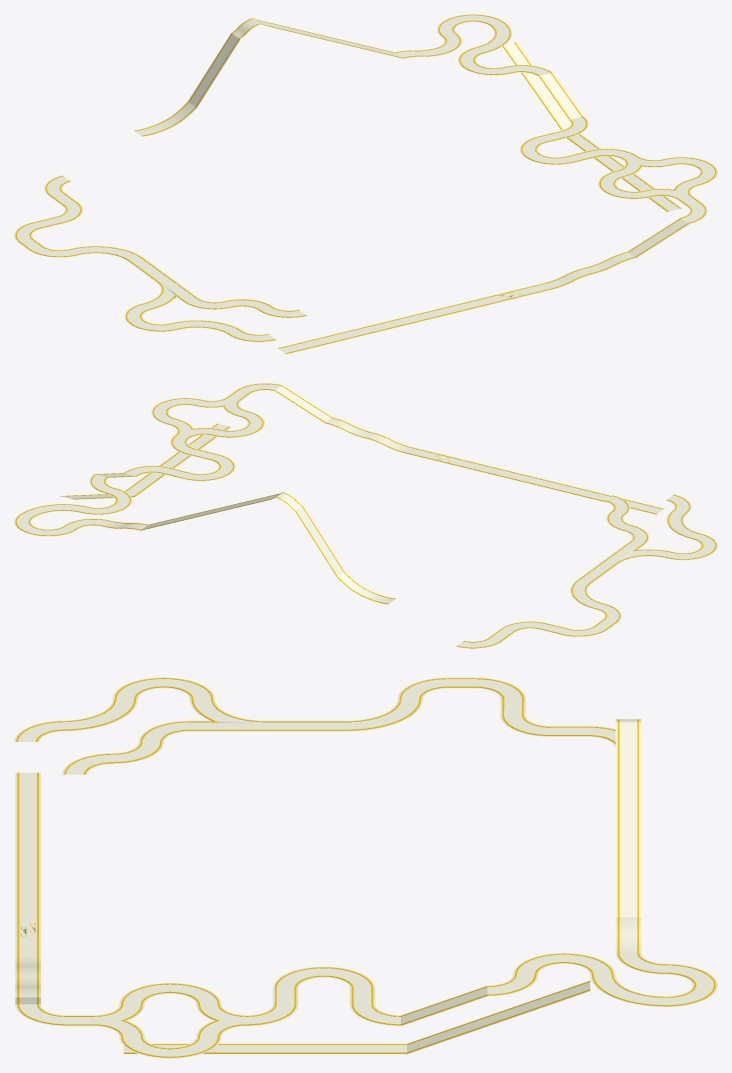
The model's file is Pisttiti.fbx.
The picture shows the model from 3 angles, top to bottom: view 1: azimuth 30°, elevation 25°; view 2: azimuth 150°, elevation 25°; view 3: azimuth 270°, elevation 25°; orthographic projection. The views are drawn at different scales.
Visible parts, largest first — view 1: roadStraightLong.001, roadCornerLarge.010, roadStraightLong.004, roadStraightLong.003, roadStraightLong.002, roadStraightLong.011, roadSplitLarger.001, roadCornerLarge.014, roadCornerLarge.026, roadStraightLong.012, roadStraightLong.013, roadCornerLarge.013 (+6 smaller); view 2: roadStraightLong.001, roadCornerLarge.010, roadStraightLong.003, roadStraightLong.002, roadSplitLarger.001, roadCornerLarge.014, roadCornerLarge.009, roadStraightLong.013, roadCornerLarge.026, roadCornerLarge.013, roadStraightLong.012, roadCornerLarger (+4 smaller); view 3: roadStraightLong.013, roadStraightLong.001, roadCornerLarge.010, roadStraightLong.003, roadStraightLong.004, roadSplitLarger.001, roadCornerLarge.009, roadCornerLarge.013, roadCornerLarge.014, roadCornerLarge.026, roadCornerLarger.001, roadCornerLarger (+18 smaller).
Boxes of the visible parts, left/top/right/bottom form: roadStraightLong.001: left=277, top=294, right=504, bottom=354; roadCornerLarge.010: left=598, top=157, right=717, bottom=199; roadStraightLong.004: left=501, top=42, right=581, bottom=138; roadStraightLong.003: left=566, top=134, right=681, bottom=211; roadStraightLong.002: left=188, top=33, right=240, bottom=107; roadStraightLong.011: left=537, top=72, right=583, bottom=119; roadSplitLarger.001: left=143, top=278, right=198, bottom=309; roadCornerLarge.014: left=437, top=14, right=504, bottom=37; roadCornerLarge.026: left=124, top=303, right=178, bottom=331; roadStraightLong.012: left=627, top=217, right=689, bottom=258; roadStraightLong.013: left=260, top=20, right=403, bottom=58; roadCornerLarge.013: left=457, top=47, right=511, bottom=75; roadStraightLong.001: left=449, top=458, right=664, bottom=514; roadCornerLarge.010: left=151, top=398, right=264, bottom=437; roadStraightLong.003: left=124, top=423, right=230, bottom=496; roadStraightLong.002: left=295, top=506, right=344, bottom=576; roadSplitLarger.001: left=604, top=541, right=674, bottom=563; roadCornerLarge.014: left=14, top=515, right=77, bottom=536; roadCornerLarge.009: left=184, top=454, right=235, bottom=481; roadStraightLong.013: left=141, top=494, right=276, bottom=530; roadCornerLarge.026: left=666, top=533, right=717, bottom=560; roadCornerLarge.013: left=81, top=488, right=132, bottom=514; roadStraightLong.012: left=274, top=385, right=332, bottom=423; roadCornerLarger: left=19, top=504, right=88, bottom=518; roadStraightLong.013: left=615, top=732, right=641, bottom=917; roadStraightLong.001: left=15, top=772, right=40, bottom=922; roadCornerLarge.010: left=119, top=983, right=221, bottom=1058; roadStraightLong.003: left=123, top=1043, right=406, bottom=1054; roadStraightLong.004: left=405, top=980, right=590, bottom=1054; roadSplitLarger.001: left=189, top=698, right=266, bottom=731; roadCornerLarge.009: left=273, top=966, right=375, bottom=988; roadCornerLarge.013: left=513, top=953, right=615, bottom=974; roadCornerLarge.014: left=666, top=964, right=717, bottom=1006; roadCornerLarge.026: left=112, top=677, right=214, bottom=698; roadCornerLarger.001: left=346, top=698, right=423, bottom=731; roadCornerLarger: left=590, top=974, right=666, bottom=1006.
Bounding box in the file's own units: 6115 × 1276 × 4525.
